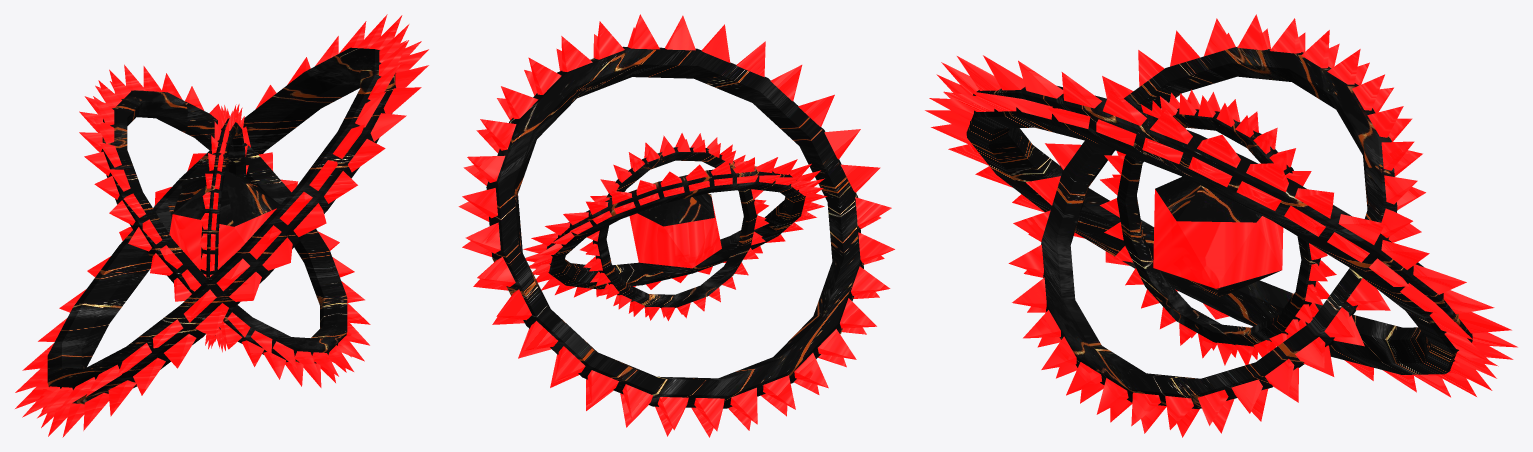
Rendered from track3Building5.glb.
3 views of the same model, side by side, from view 1: azimuth 30°, elevation 25°; view 2: azimuth 150°, elevation 25°; view 3: azimuth 270°, elevation 25° (orthographic). The views are drawn at different scales.
Visible parts, largest first — view 1: Torus.005; view 2: Torus.005; view 3: Torus.005.
Boxes of the visible parts, box(x1,y1,x2,y2) form: Torus.005: box(15, 14, 428, 437); Torus.005: box(458, 14, 894, 437); Torus.005: box(925, 14, 1517, 437).
Size of the model in its own units: 3.02 by 2.61 by 3.24.
2 materials, 2 textured.
